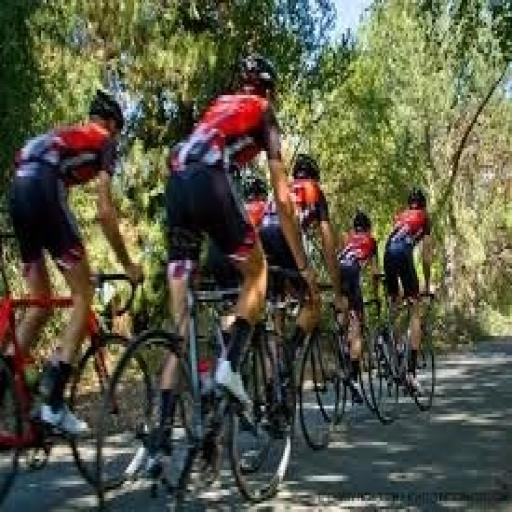cycling: (134, 50, 324, 484), (4, 84, 147, 442), (380, 182, 436, 400), (331, 207, 382, 406)
